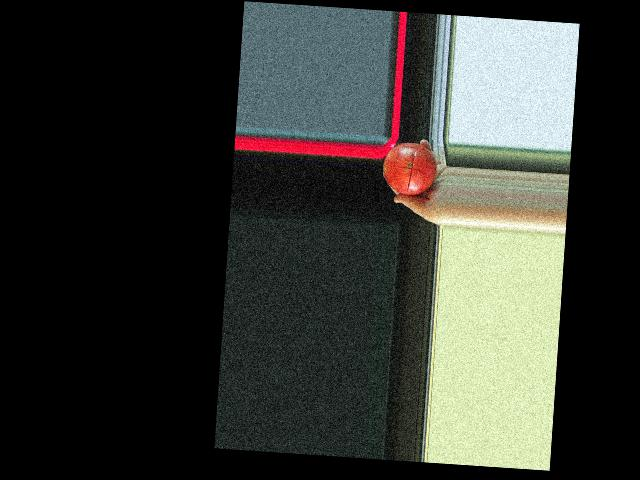tomato: (381, 140, 438, 196)
